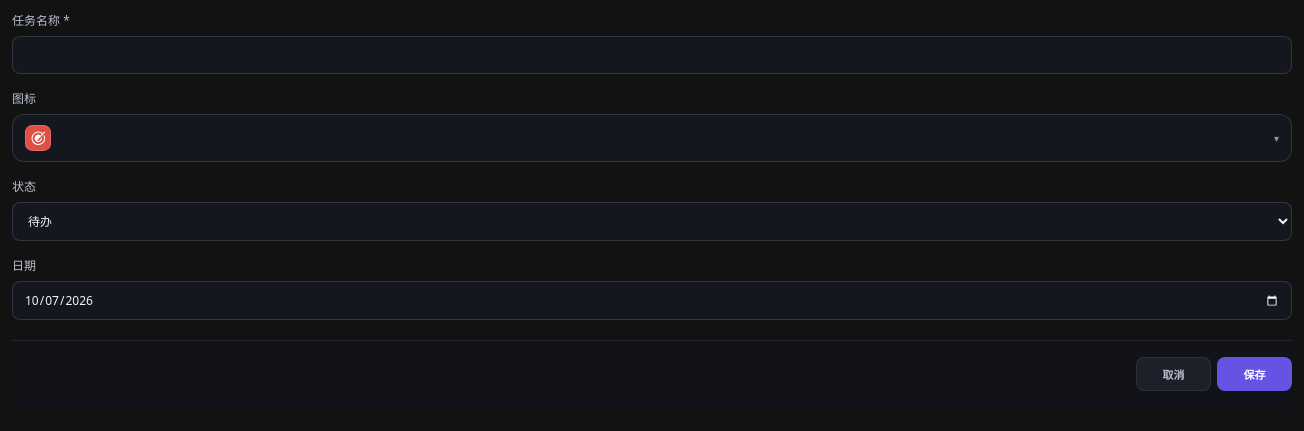
Test: TaskForm creating a task › refuses a half-typed date for a new task, as it does for an edited one
Type "Orphan" into the field with test id "task-name-input". click: (652, 55)
box: [12, 36, 1292, 74]
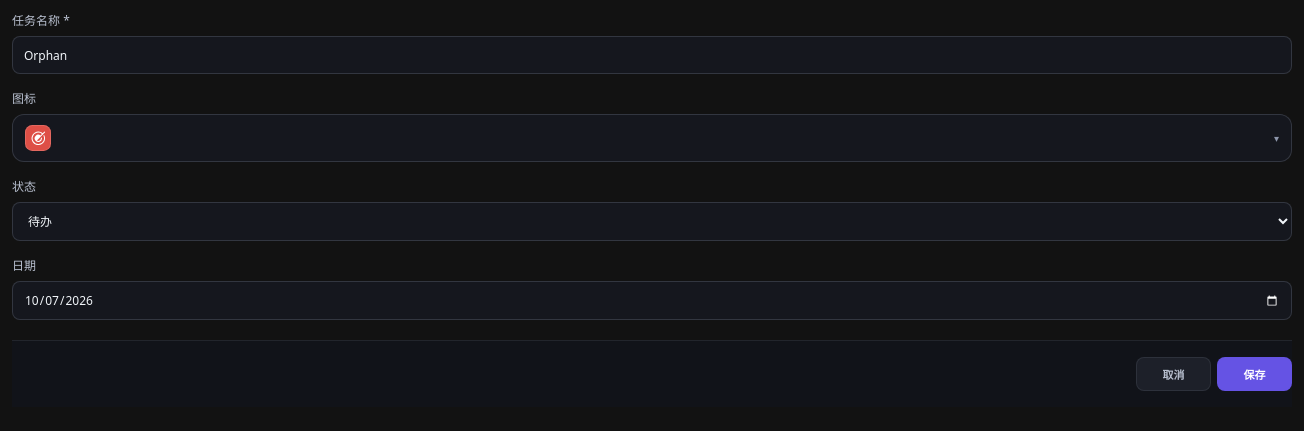
Type "0026-10-05" into the date field labelled "日期". click: (652, 300)
box: [12, 281, 1292, 320]
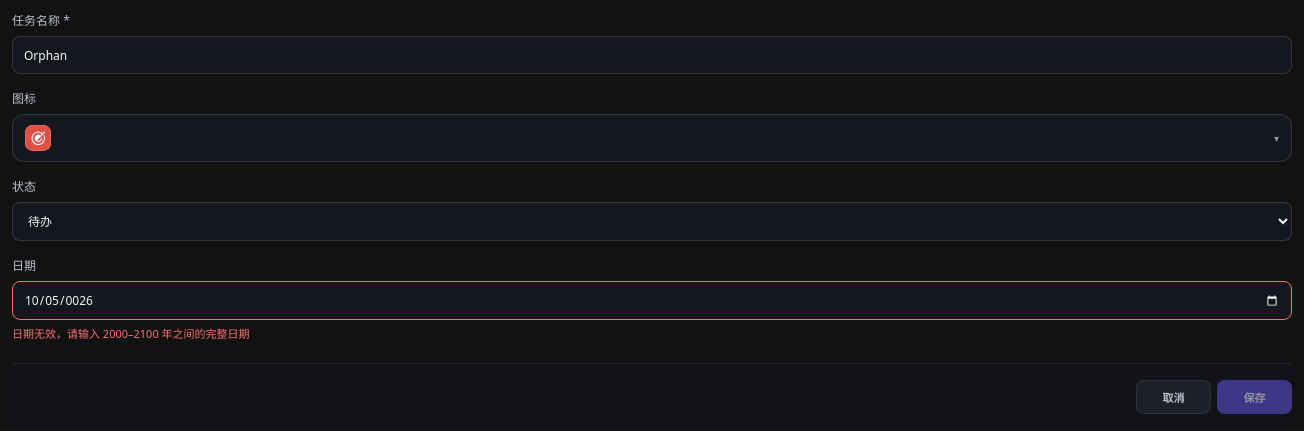
Expected: the message shows "日期无效", [12, 326, 250, 341]
Expected: the button with test id "task-save" is disabled, [1217, 380, 1292, 414]
